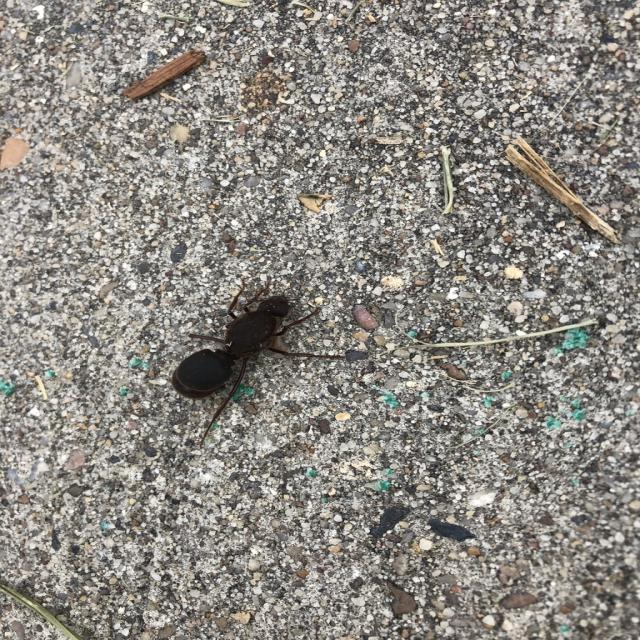Alive-Female-Dealate: (170, 278, 346, 449)
